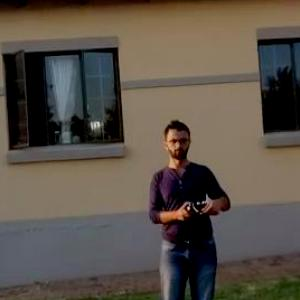follow: (142, 112, 242, 299)
